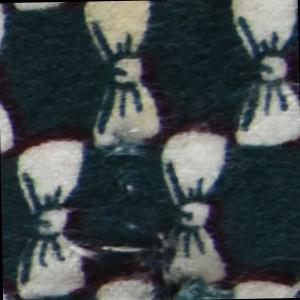Damage: (59, 232, 237, 300), (97, 128, 153, 198)
